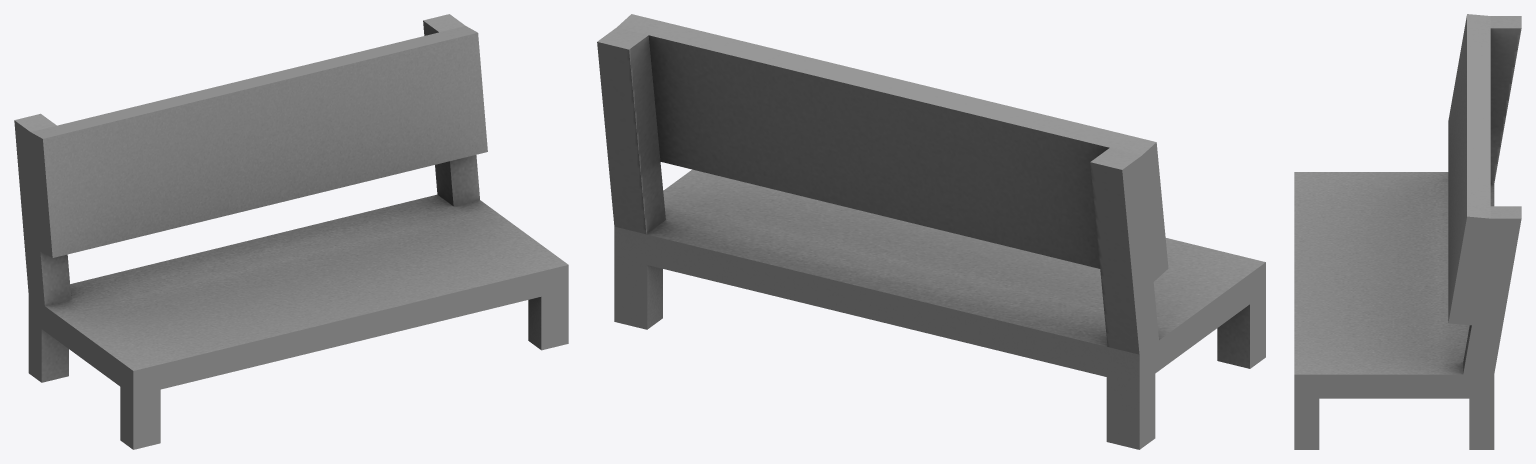
File: JeepLargeSeat.obj
3 renders of one model, left to right at view 1: azimuth 30°, elevation 25°; view 2: azimuth 150°, elevation 25°; view 3: azimuth 270°, elevation 25°, orthographic. The views are drawn at different scales.
Parts seen in each view (by area): view 1: Large_Seat_Cube.006; view 2: Large_Seat_Cube.006; view 3: Large_Seat_Cube.006.
Boxes of the visible parts, x1,y1,x2,y2 form: Large_Seat_Cube.006: (14, 14, 568, 449); Large_Seat_Cube.006: (597, 14, 1265, 449); Large_Seat_Cube.006: (1294, 14, 1521, 449).
Bounding box in the file's own units: 1.65 × 0.8862 × 0.7818.
